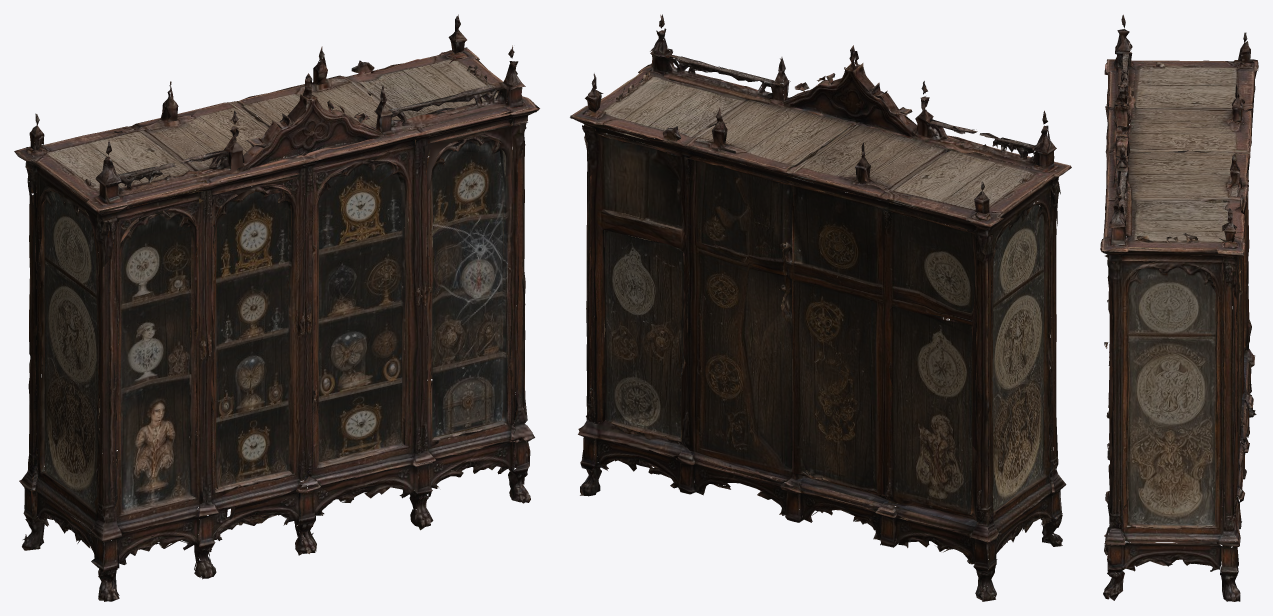
Rendered from DisplayCabinet.fbx.
3 views of the same model, side by side, from view 1: azimuth 30°, elevation 25°; view 2: azimuth 150°, elevation 25°; view 3: azimuth 270°, elevation 25° (orthographic). The views are drawn at different scales.
Parts seen in each view (by area): view 1: DisplayCabinet; view 2: DisplayCabinet; view 3: DisplayCabinet.
Boxes of the visible parts, left/top/right/bottom form: DisplayCabinet: left=14, top=14, right=539, bottom=601; DisplayCabinet: left=570, top=14, right=1071, bottom=601; DisplayCabinet: left=1100, top=14, right=1258, bottom=601.
Bounding box in the file's own units: 98.38 × 100 × 33.85.
1 material, 1 textured.
